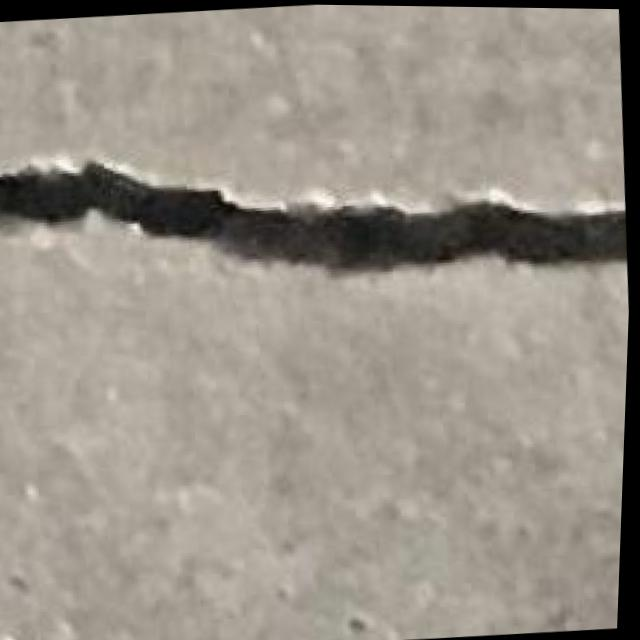Crack: (0, 113, 633, 311)
